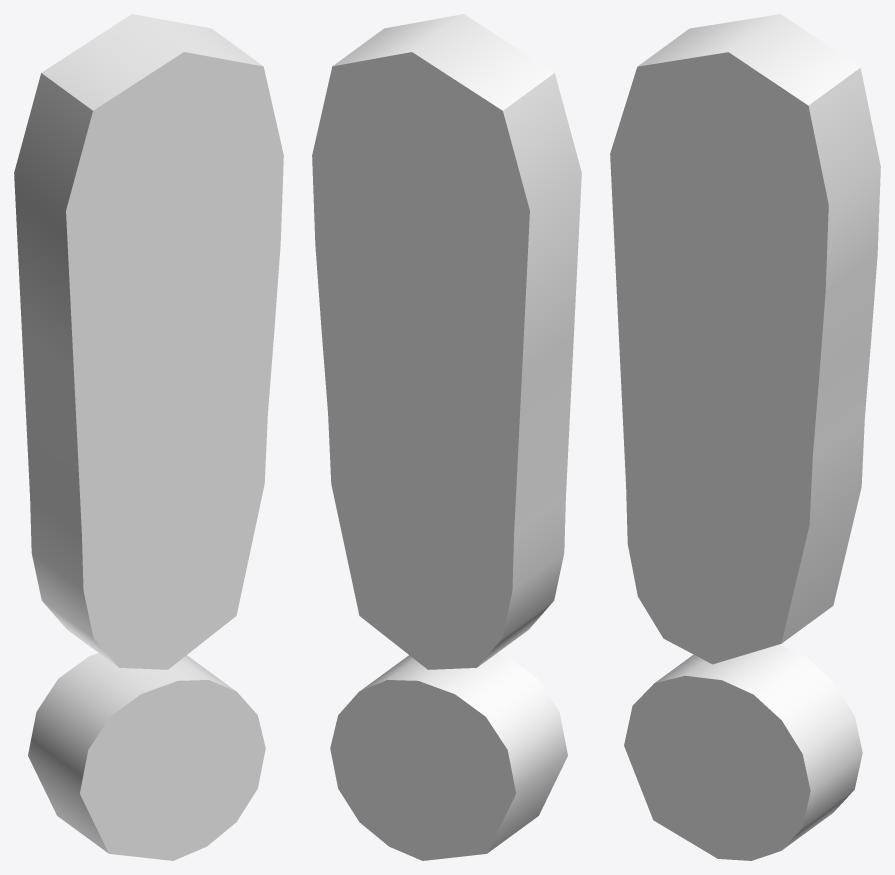
Rendered from Exclamation Mark_3.fbx.
The picture shows the model from 3 angles, left to right: view 1: azimuth 30°, elevation 25°; view 2: azimuth 150°, elevation 25°; view 3: azimuth 330°, elevation 25°; orthographic projection.
Parts seen in each view (by area): view 1: Exclamation Mark_3; view 2: Exclamation Mark_3; view 3: Exclamation Mark_3.
Boxes of the visible parts, bbox=[...] form: Exclamation Mark_3: bbox=[14, 14, 283, 860]; Exclamation Mark_3: bbox=[312, 14, 581, 860]; Exclamation Mark_3: bbox=[610, 14, 880, 860].
Bounding box in the file's own units: 0.0481 × 0.1702 × 0.0199.
